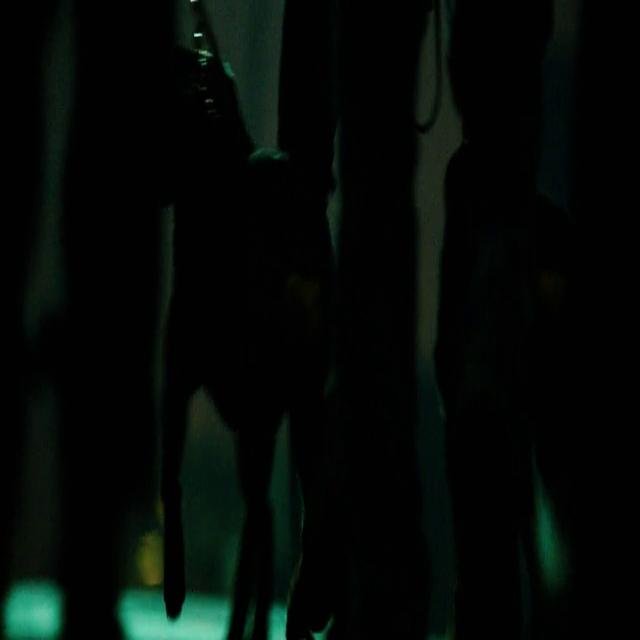dog: (144, 27, 367, 610)
